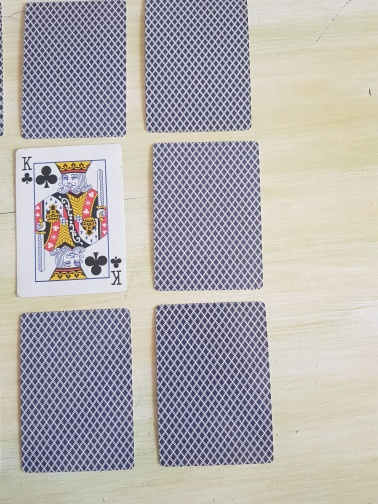king: (14, 143, 128, 299)
